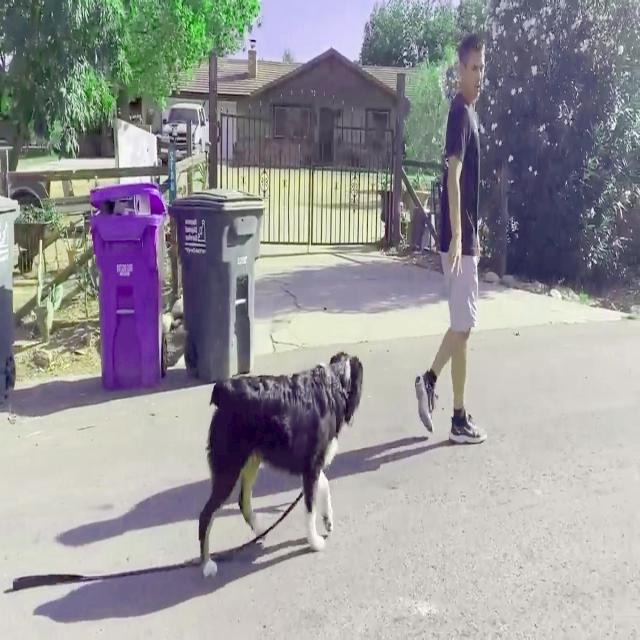Unleashed_Dog: (197, 260, 469, 581)
